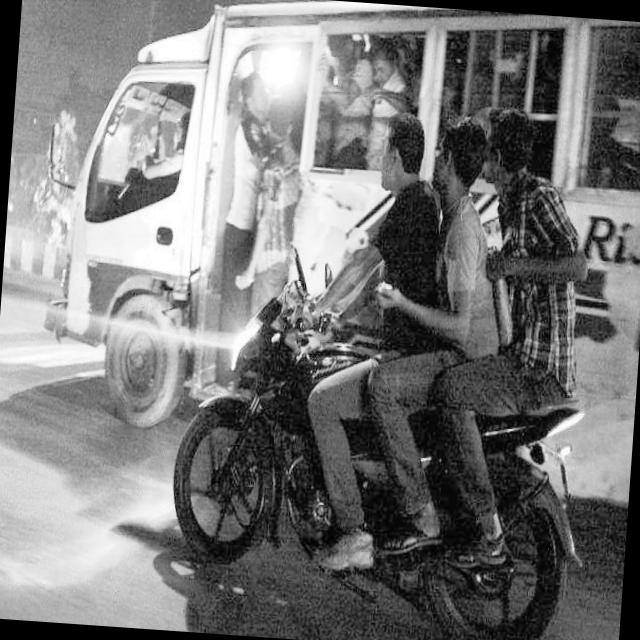Bus: (9, 0, 640, 525)
Motorcycle: (149, 244, 606, 640)
